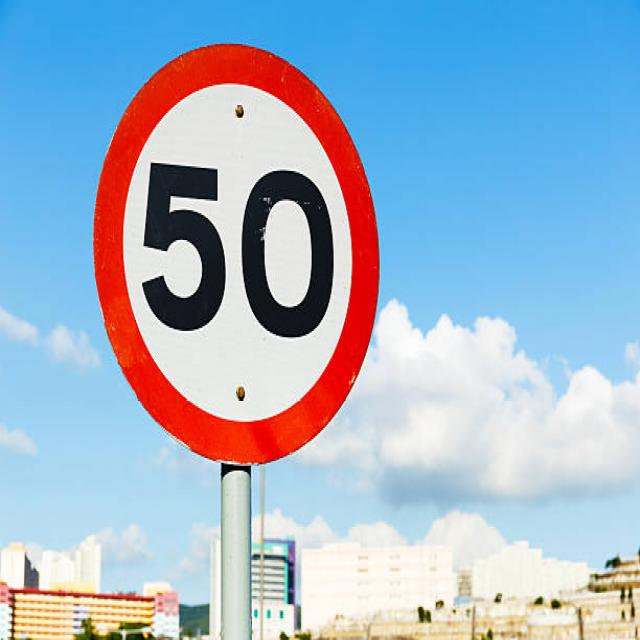speed_limit_50: (86, 30, 386, 476)
